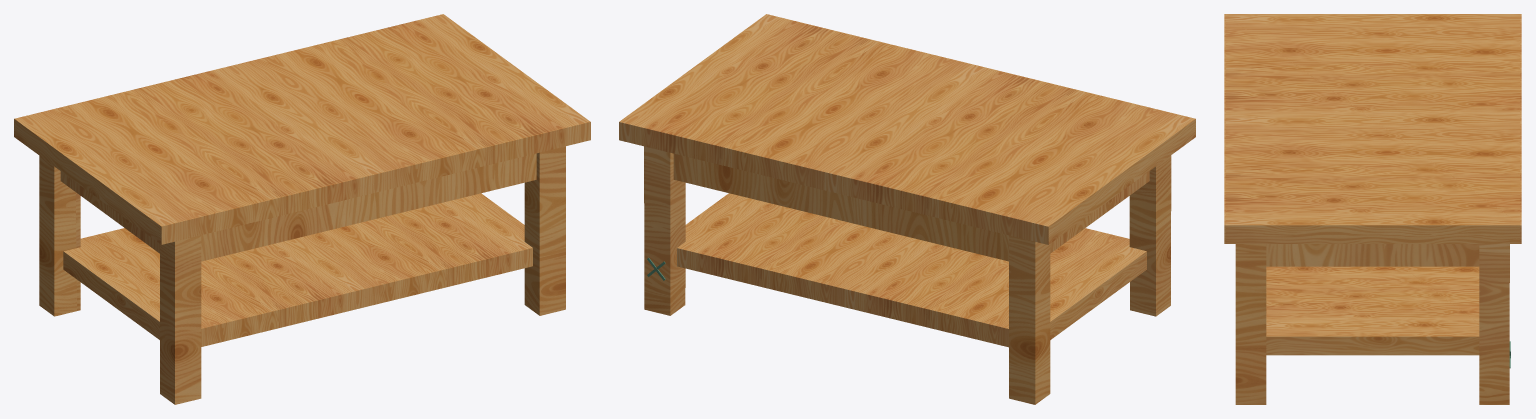
Rendered from Livingroom_Table.fbx.
The picture shows the model from 3 angles, left to right: view 1: azimuth 30°, elevation 25°; view 2: azimuth 150°, elevation 25°; view 3: azimuth 270°, elevation 25°; orthographic projection.
Parts seen in each view (by area): view 1: Livingroom_Table; view 2: Livingroom_Table; view 3: Livingroom_Table.
Boxes of the visible parts, <box> form: Livingroom_Table: <box>14,14,590,404</box>; Livingroom_Table: <box>619,14,1195,404</box>; Livingroom_Table: <box>1224,14,1521,404</box>.
Bounding box in the file's own units: 152 × 63.81 × 90.29.
